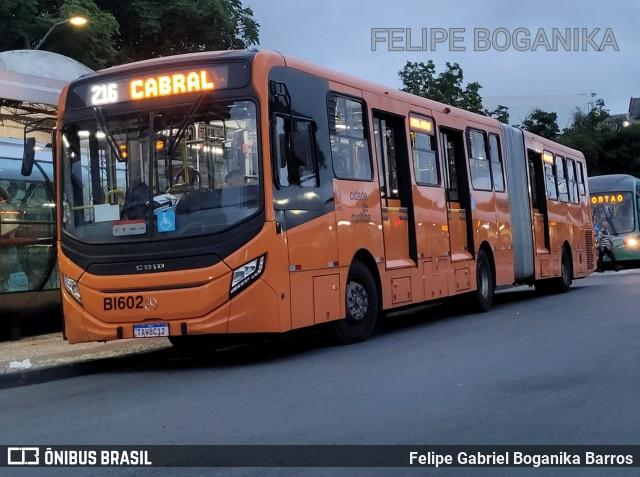CABRAL: (123, 63, 222, 105)
